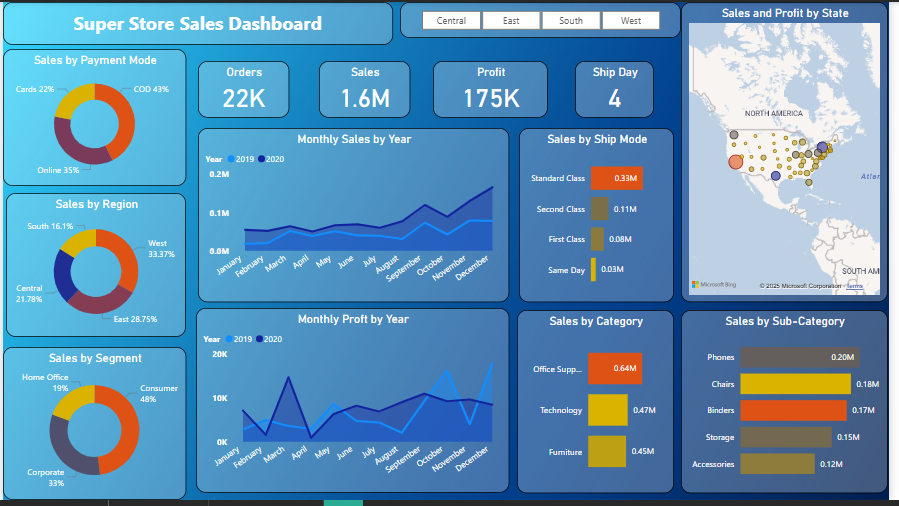

Layout of this report page (visuals, bound fields, positions):
{"tool":"powerbi","page":{"name":"Dashboard","canvas":[1280,720],"ordinal":0},"visuals":[{"type":"clusteredBarChart","title":"Sales by Category","fields":{"Category":["SuperStore_Sales.Category"],"Y":["Sum(SuperStore_Sales.Sales)"]},"box":[743.1,445.3,227,264.6],"z":0},{"type":"clusteredBarChart","title":"Sales by Sub-Category","fields":{"Category":["SuperStore_Sales.Sub-Category"],"Y":["Sum(SuperStore_Sales.Sales)"]},"box":[980.2,445.3,299.3,264.6],"z":1000},{"type":"clusteredBarChart","title":"Sales by Ship Mode","fields":{"Category":["SuperStore_Sales.Ship Mode"],"Y":["Sum(SuperStore_Sales.Sales)"]},"box":[746,182.2,224.1,251.6],"z":2000},{"type":"areaChart","title":"Monthly  Sales by Year","fields":{"Y":["Sum(SuperStore_Sales.Sales)"],"Category":["SuperStore_Sales.Order Date.Variation.Date Hierarchy.Month","SuperStore_Sales.Order Date.Variation.Date Hierarchy.Day"],"Series":["SuperStore_Sales.Order Date.Variation.Date Hierarchy.Year"]},"box":[281.9,182.2,449.6,251.6],"z":3000},{"type":"areaChart","title":"Monthly Proft by Year","fields":{"Category":["SuperStore_Sales.Order Date.Variation.Date Hierarchy.Month","SuperStore_Sales.Order Date.Variation.Date Hierarchy.Day"],"Series":["SuperStore_Sales.Order Date.Variation.Date Hierarchy.Year"],"Y":["Sum(SuperStore_Sales.Profit)"]},"box":[279,442.4,452.5,267.5],"z":4000},{"type":"map","title":"Sales and Profit by State","fields":{"Category":["SuperStore_Sales.State"],"Size":["Sum(SuperStore_Sales.Sales)"]},"box":[980.2,0,299.3,433.7],"z":5000},{"type":"donutChart","title":"Sales by Segment","fields":{"Category":["SuperStore_Sales.Segment"],"Y":["Sum(SuperStore_Sales.Sales)"]},"box":[0,498.8,264.6,221.2],"z":6000},{"type":"donutChart","title":"Sales by Payment Mode","fields":{"Category":["SuperStore_Sales.Payment Mode"],"Y":["Sum(SuperStore_Sales.Sales)"]},"box":[0,68,264.6,198.1],"z":7000},{"type":"slicer","fields":{"Values":["SuperStore_Sales.Region"]},"box":[574,0,406.3,52],"z":7001},{"type":"textbox","box":[0,0,563.9,62.2],"z":7002},{"type":"card","title":"Sales","fields":{"Values":["Sum(SuperStore_Sales.Sales)"]},"box":[456.9,85.3,131.6,82.4],"z":7003},{"type":"card","title":"Orders","fields":{"Values":["Sum(SuperStore_Sales.Quantity)"]},"box":[281.9,85.3,131.6,82.4],"z":7004},{"type":"card","title":"Profit","fields":{"Values":["Sum(SuperStore_Sales.Profit)"]},"box":[621.7,85.3,166.3,82.4],"z":7005},{"type":"card","title":"Ship Day","fields":{"Values":["Avg(SuperStore_Sales.AverageDelivery)"]},"box":[827,85.3,114.2,82.4],"z":7006},{"type":"donutChart","title":"Sales by Region","fields":{"Category":["SuperStore_Sales.Region"],"Y":["Sum(SuperStore_Sales.Sales)"]},"box":[4.3,276.1,260.2,208.2],"z":7007}]}

Visuals, with their boxes in screenshot pixels (x1, y1, x2, y2), scaled from the page's 1280x720 canvas onto the 899x506 screenshot:
"Sales by Category" clusteredBarChart: (522, 313, 681, 499)
"Sales by Sub-Category" clusteredBarChart: (688, 313, 898, 499)
"Sales by Ship Mode" clusteredBarChart: (524, 128, 681, 305)
"Monthly  Sales by Year" areaChart: (198, 128, 514, 305)
"Monthly Proft by Year" areaChart: (196, 311, 514, 499)
"Sales and Profit by State" map: (688, 0, 898, 305)
"Sales by Segment" donutChart: (0, 351, 186, 505)
"Sales by Payment Mode" donutChart: (0, 48, 186, 187)
slicer - SuperStore_Sales.Region: (403, 0, 689, 37)
textbox: (0, 0, 396, 44)
"Sales" card: (321, 60, 413, 118)
"Orders" card: (198, 60, 290, 118)
"Profit" card: (437, 60, 553, 118)
"Ship Day" card: (581, 60, 661, 118)
"Sales by Region" donutChart: (3, 194, 186, 340)
